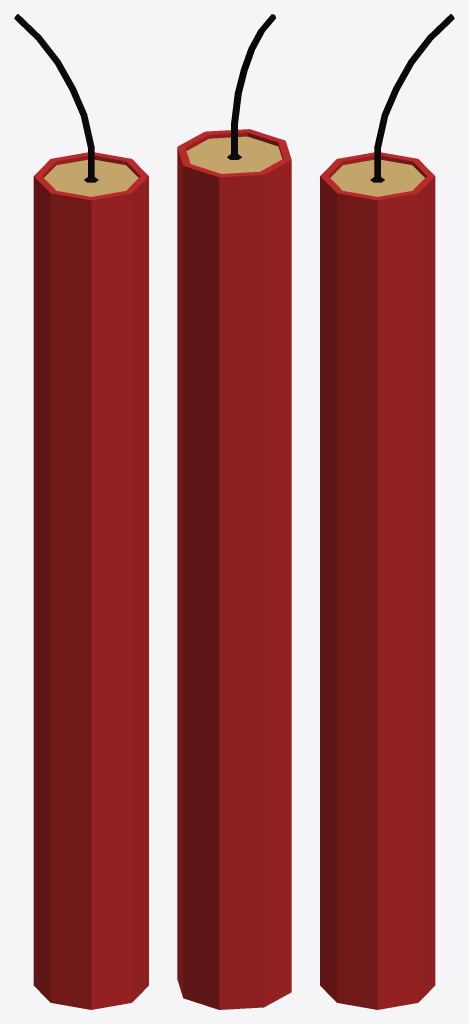
The model's file is Dynamite.fbx.
The picture shows the model from 3 angles, left to right: view 1: azimuth 90°, elevation 25°; view 2: azimuth 210°, elevation 25°; view 3: azimuth 270°, elevation 25°; orthographic projection. The views are drawn at different scales.
Parts seen in each view (by area): view 1: DynamiteStick, DynamiteFuse; view 2: DynamiteStick, DynamiteFuse; view 3: DynamiteStick, DynamiteFuse.
Boxes of the visible parts, x1,y1,x2,y2 form: DynamiteStick: (33, 152, 148, 1009); DynamiteFuse: (14, 14, 98, 182); DynamiteStick: (177, 129, 291, 1009); DynamiteFuse: (227, 14, 275, 159); DynamiteStick: (320, 152, 435, 1009); DynamiteFuse: (370, 14, 454, 182).
Bounding box in the file's own units: 7.26 × 67.66 × 8.5.
